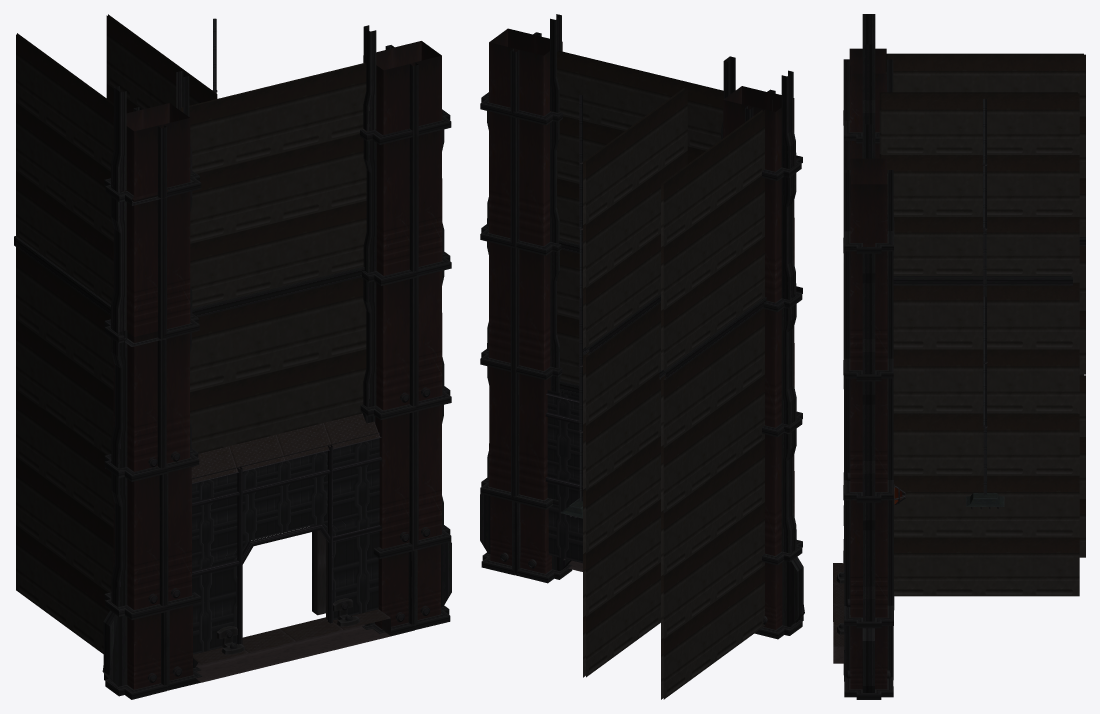
The model's file is ex-resca.glb.
The picture shows the model from 3 angles, left to right: view 1: azimuth 30°, elevation 25°; view 2: azimuth 150°, elevation 25°; view 3: azimuth 270°, elevation 25°; orthographic projection. The views are drawn at different scales.
Visible parts, largest first — view 1: Mesh_0.022, Mesh_0.015, Mesh_0.041, Mesh_0.020, Mesh_0.023, Mesh_0.042, Mesh_0.034, Mesh_0.024, Mesh_0.030, Mesh_0.031, Mesh_0.026, Mesh_0.025; view 2: Mesh_0.041, Mesh_0.042, Mesh_0.022, Mesh_0.020, Mesh_0.015, Mesh_0.023, Mesh_0.032, Mesh_0.024; view 3: Mesh_0.042, Mesh_0.020, Mesh_0.022, Mesh_0.041, Mesh_0.032, Mesh_0.031, Mesh_0.033.
Boxes of the visible parts, x1,y1,x2,y2 form: Mesh_0.022: (113, 41, 442, 689); Mesh_0.015: (180, 63, 367, 453); Mesh_0.041: (16, 33, 113, 653); Mesh_0.020: (14, 25, 451, 699); Mesh_0.023: (192, 432, 379, 654); Mesh_0.042: (106, 14, 217, 113); Mesh_0.034: (191, 413, 379, 482); Mesh_0.024: (192, 433, 381, 644); Mesh_0.030: (196, 611, 390, 682); Mesh_0.031: (193, 609, 390, 664); Mesh_0.026: (314, 530, 327, 619); Mesh_0.025: (216, 598, 359, 654); Mesh_0.041: (661, 110, 764, 699); Mesh_0.042: (583, 87, 687, 677); Mesh_0.022: (489, 28, 794, 629); Mesh_0.020: (480, 14, 804, 639); Mesh_0.015: (551, 50, 723, 384); Mesh_0.023: (547, 390, 582, 563); Mesh_0.032: (579, 95, 582, 501); Mesh_0.024: (545, 393, 585, 490); Mesh_0.042: (879, 92, 1079, 596); Mesh_0.020: (839, 14, 1085, 699); Mesh_0.022: (849, 48, 887, 689); Mesh_0.041: (885, 53, 1085, 557); Mesh_0.032: (983, 98, 986, 494); Mesh_0.031: (833, 563, 844, 646); Mesh_0.033: (966, 493, 1004, 506).
Size of the model in its own units: 28.91 by 48.27 by 20.4.
Materials: 20 (20 with a texture image).
